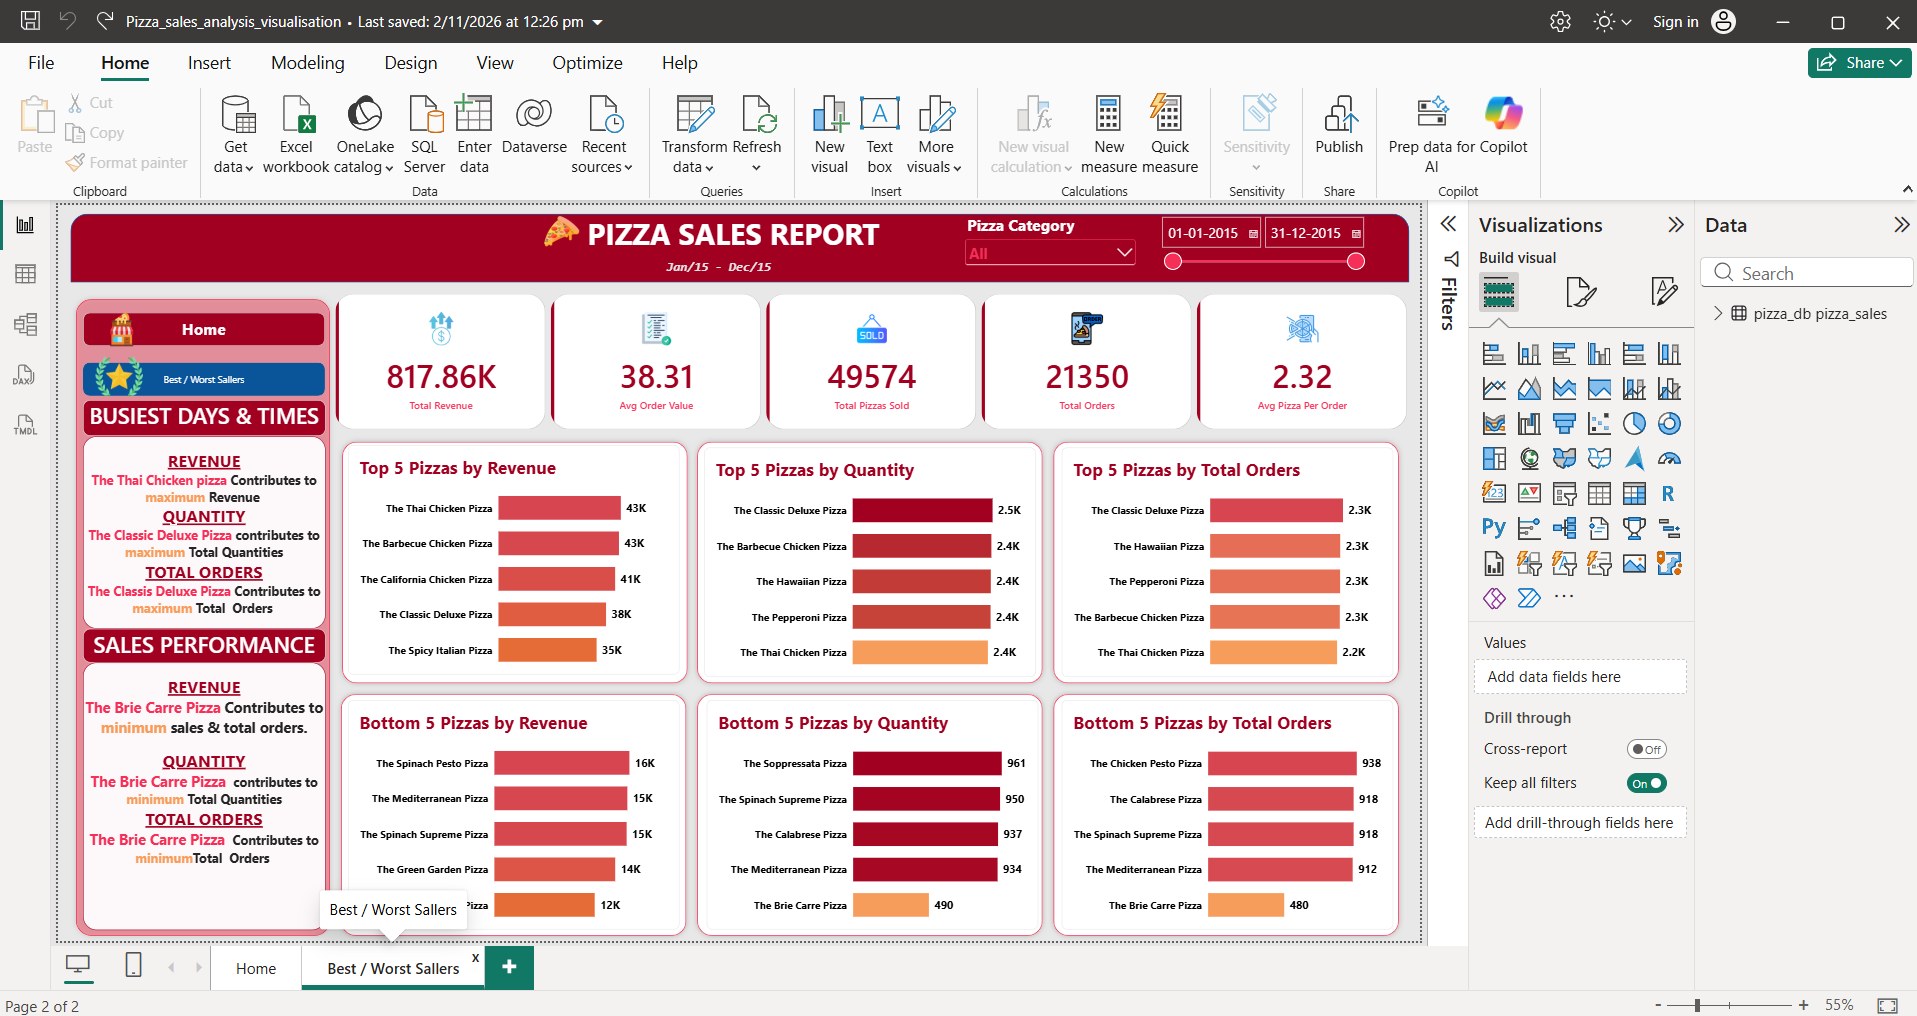

The dashboard page shown, as its layout file describes it:
{"tool":"powerbi","page":{"name":"Best / Worst Sallers","canvas":[2000,1080],"ordinal":1},"visuals":[{"type":"shape","box":[18.3,130.2,388.9,950.1],"z":0},{"type":"cardVisual","fields":{"Data":["pizza_db pizza_sales.Total Revenue","pizza_db pizza_sales.Avg Order Value","pizza_db pizza_sales.Total Pizzas Sold","pizza_db pizza_sales.Total Orders","pizza_db pizza_sales.Avg Pizza Per Order"]},"box":[407.2,130.2,1575.6,199.9],"z":1000},{"type":"shape","box":[18.3,12.8,1964.5,100.9],"z":2000},{"type":"textbox","box":[770.4,12.8,442.1,67.9],"z":3000},{"type":"textbox","box":[891.4,80.7,155.9,33],"z":4000},{"type":"image","box":[682.3,12.8,113.7,51.4],"z":5000},{"type":"shape","box":[409,339.3,522.8,370.5],"z":6000},{"type":"textbox","box":[36.7,286.1,355.8,53.2],"z":7000},{"type":"textbox","box":[36.7,339.3,355.8,282.5],"z":8000},{"type":"textbox","box":[36.7,621.8,355.8,49.5],"z":9000},{"type":"textbox","box":[36.7,671.3,355.8,392.5],"z":10000},{"type":"slicer","fields":{"Values":["pizza_db pizza_sales.pizza_category"]},"box":[1326.2,12.8,260.5,100.9],"z":11000},{"type":"slicer","fields":{"Values":["pizza_db pizza_sales.order_date"]},"box":[1612.3,12.8,308.2,100.9],"z":12000},{"type":"shape","box":[930,339.3,522.8,370.5],"z":13000},{"type":"shape","box":[1452.7,339.3,522.8,370.5],"z":14000},{"type":"shape","box":[407.2,709.9,522.8,370.5],"z":15000},{"type":"shape","box":[930,709.9,522.8,370.5],"z":16000},{"type":"shape","box":[1452.7,709.9,522.8,370.5],"z":17000},{"type":"barChart","title":"Top 5 Pizzas by Revenue","fields":{"Category":["pizza_db pizza_sales.pizza_name"],"Y":["pizza_db pizza_sales.Total Revenue"]},"box":[425.5,352.2,486.1,337],"z":18000},{"type":"barChart","title":"Bottom 5 Pizzas by Revenue","fields":{"Category":["pizza_db pizza_sales.pizza_name"],"Y":["pizza_db pizza_sales.Total Revenue"]},"box":[425.5,726.4,486.1,337],"z":19000},{"type":"barChart","title":"Top 5 Pizzas by Quantity","fields":{"Category":["pizza_db pizza_sales.pizza_name"],"Y":["pizza_db pizza_sales.Total Pizzas Sold"]},"box":[949,356.2,486.1,337],"z":20000},{"type":"barChart","title":"Bottom 5 Pizzas by Quantity","fields":{"Category":["pizza_db pizza_sales.pizza_name"],"Y":["pizza_db pizza_sales.Total Pizzas Sold"]},"box":[951.2,727.2,486.1,337],"z":21000},{"type":"barChart","title":"Top 5 Pizzas by Total Orders","fields":{"Category":["pizza_db pizza_sales.pizza_name"],"Y":["pizza_db pizza_sales.Total Orders"]},"box":[1472.9,355.8,486.1,337],"z":22000},{"type":"barChart","title":"Bottom 5 Pizzas by Total Orders","fields":{"Category":["pizza_db pizza_sales.pizza_name"],"Y":["pizza_db pizza_sales.Total Orders"]},"box":[1473.7,727.2,486.1,337],"z":23000},{"type":"pageNavigator","box":[36.7,157.7,355.8,49.5],"z":24000},{"type":"pageNavigator","box":[36.7,231.1,355.8,49.5],"z":25000},{"type":"image","box":[36.7,157.7,113.7,49.5],"z":25001},{"type":"image","box":[55,207.3,69.7,88],"z":25002}]}

Visuals, with their boxes on the page's 2000x1080 design canvas (x1, y1, x2, y2). These are canvas units, not pixel positions in the 1917x1016 screenshot, which may show the page scaled, cropped or inside an application window:
shape: (x1=18, y1=130, x2=407, y2=1080)
cardVisual - pizza_db pizza_sales.Total Revenue x pizza_db pizza_sales.Avg Order Value: (x1=407, y1=130, x2=1983, y2=330)
shape: (x1=18, y1=13, x2=1983, y2=114)
textbox: (x1=770, y1=13, x2=1212, y2=81)
textbox: (x1=891, y1=81, x2=1047, y2=114)
image: (x1=682, y1=13, x2=796, y2=64)
shape: (x1=409, y1=339, x2=932, y2=710)
textbox: (x1=37, y1=286, x2=392, y2=339)
textbox: (x1=37, y1=339, x2=392, y2=622)
textbox: (x1=37, y1=622, x2=392, y2=671)
textbox: (x1=37, y1=671, x2=392, y2=1064)
slicer - pizza_db pizza_sales.pizza_category: (x1=1326, y1=13, x2=1587, y2=114)
slicer - pizza_db pizza_sales.order_date: (x1=1612, y1=13, x2=1920, y2=114)
shape: (x1=930, y1=339, x2=1453, y2=710)
shape: (x1=1453, y1=339, x2=1976, y2=710)
shape: (x1=407, y1=710, x2=930, y2=1080)
shape: (x1=930, y1=710, x2=1453, y2=1080)
shape: (x1=1453, y1=710, x2=1976, y2=1080)
"Top 5 Pizzas by Revenue" barChart: (x1=426, y1=352, x2=912, y2=689)
"Bottom 5 Pizzas by Revenue" barChart: (x1=426, y1=726, x2=912, y2=1063)
"Top 5 Pizzas by Quantity" barChart: (x1=949, y1=356, x2=1435, y2=693)
"Bottom 5 Pizzas by Quantity" barChart: (x1=951, y1=727, x2=1437, y2=1064)
"Top 5 Pizzas by Total Orders" barChart: (x1=1473, y1=356, x2=1959, y2=693)
"Bottom 5 Pizzas by Total Orders" barChart: (x1=1474, y1=727, x2=1960, y2=1064)
pageNavigator: (x1=37, y1=158, x2=392, y2=207)
pageNavigator: (x1=37, y1=231, x2=392, y2=281)
image: (x1=37, y1=158, x2=150, y2=207)
image: (x1=55, y1=207, x2=125, y2=295)
